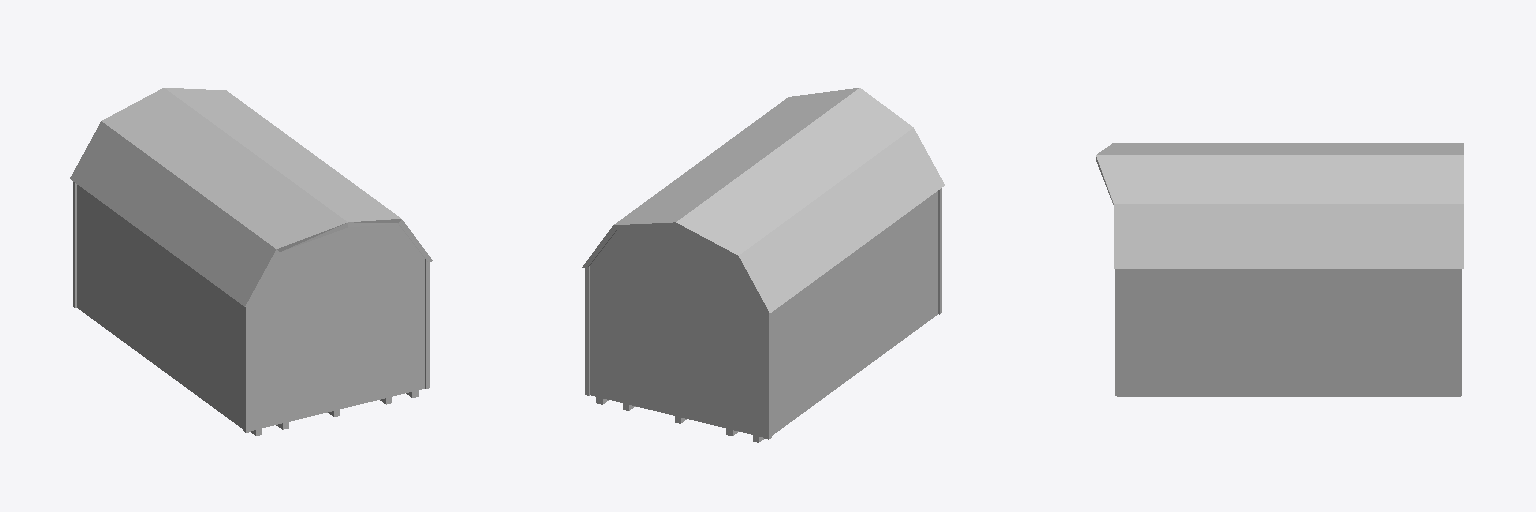
The model's file is High Wall Barns_10x16.obj.
The picture shows the model from 3 angles: view 1: azimuth 30°, elevation 25°; view 2: azimuth 150°, elevation 25°; view 3: azimuth 270°, elevation 25°; orthographic projection.
Visible parts, largest first — view 1: High Wall Barns_10x16.obj; view 2: High Wall Barns_10x16.obj; view 3: High Wall Barns_10x16.obj.
Part boxes in pixels (x1,y1,x2,y2): High Wall Barns_10x16.obj: (70,88,432,435); High Wall Barns_10x16.obj: (582,88,944,442); High Wall Barns_10x16.obj: (1096,143,1463,396).
Bounding box in the file's own units: 3.09 × 3.17 × 5.23.